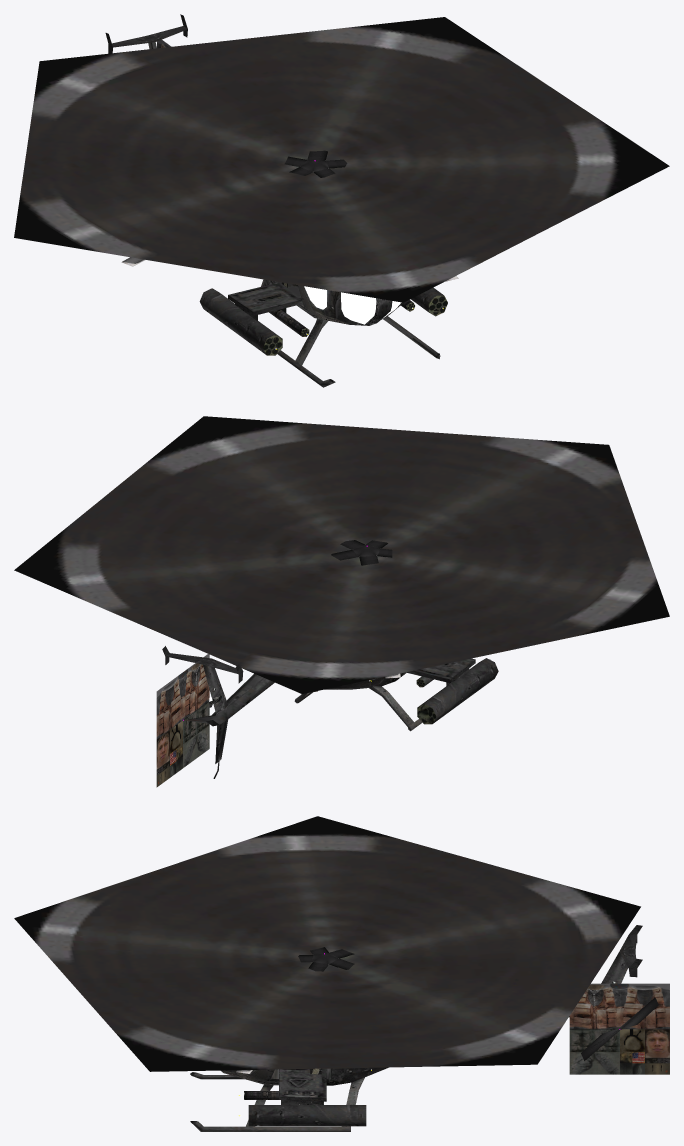
File: FAH6a.glb
The picture shows the model from 3 angles, top to bottom: view 1: azimuth 30°, elevation 25°; view 2: azimuth 150°, elevation 25°; view 3: azimuth 270°, elevation 25°; orthographic projection. The views are drawn at different scales.
Visible parts, largest first — view 1: 03 Mesh0, 03 Mesh0.001, 01 Mesh0, 03 Mesh0.002, 01 Mesh2, 01 Mesh0.001, 02 Mesh0; view 2: 03 Mesh0, 03 Mesh0.001, 03 Mesh0.002, 01 Mesh0, 05 Mesh0.001, 01 Mesh0.001, 02 Mesh0; view 3: 03 Mesh0, 03 Mesh0.001, 01 Mesh0, 05 Mesh0.001, 03 Mesh0.002, 01 Mesh0.001, 02 Mesh0, 04 Mesh0.
Boxes of the visible parts, x1,y1,x2,y2 form: 03 Mesh0: (14,17,669,302); 03 Mesh0.001: (14,18,664,301); 01 Mesh0: (105,14,447,387); 03 Mesh0.002: (325,163,666,267); 01 Mesh2: (304,286,401,324); 01 Mesh0.001: (107,16,442,357); 02 Mesh0: (121,150,458,281); 03 Mesh0: (14,416,669,693); 03 Mesh0.001: (20,423,668,683); 03 Mesh0.002: (206,417,583,543); 01 Mesh0: (162,646,498,778); 05 Mesh0.001: (156,654,209,787); 01 Mesh0.001: (163,647,496,729); 02 Mesh0: (331,540,400,678); 03 Mesh0: (14,816,640,1071); 03 Mesh0.001: (17,817,629,1070); 01 Mesh0: (190,925,642,1131); 05 Mesh0.001: (569,983,669,1074); 03 Mesh0.002: (18,921,312,1069); 01 Mesh0.001: (197,925,640,1131); 02 Mesh0: (236,947,354,1073); 04 Mesh0: (581,997,658,1060).
Size of the model in its own units: 10.77 by 3.22 by 11.68.
Materials: 9 (4 with a texture image).
